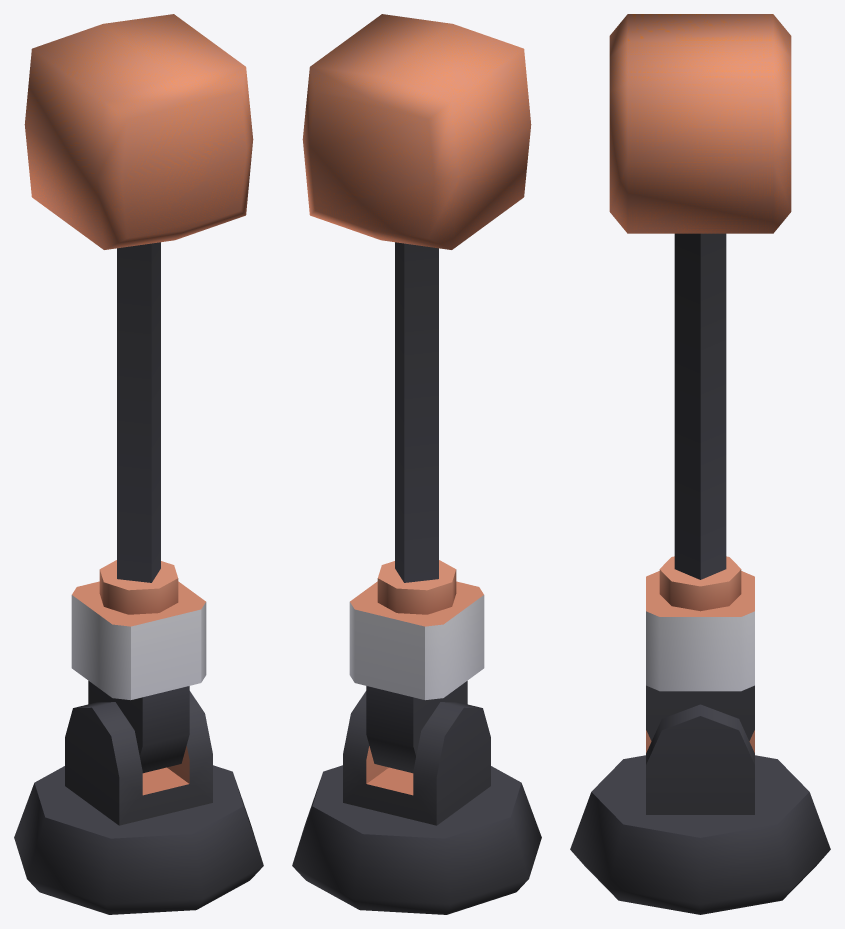
Rendered from crane-lift.obj.
The picture shows the model from 3 angles, left to right: view 1: azimuth 30°, elevation 25°; view 2: azimuth 150°, elevation 25°; view 3: azimuth 270°, elevation 25°; orthographic projection.
Visible parts, largest first — view 1: magnet, crane-lift, chain; view 2: magnet, crane-lift, chain; view 3: magnet, crane-lift, chain.
Boxes of the visible parts, x1,y1,x2,y2 form: magnet: [14, 560, 263, 914]; crane-lift: [24, 14, 253, 249]; chain: [117, 242, 160, 582]; magnet: [292, 560, 541, 914]; crane-lift: [302, 14, 531, 249]; chain: [395, 242, 438, 582]; magnet: [570, 556, 830, 914]; crane-lift: [609, 14, 791, 233]; chain: [674, 233, 726, 579].
Bounding box in the file's own units: 0.7167 × 2.5 × 0.7167.
